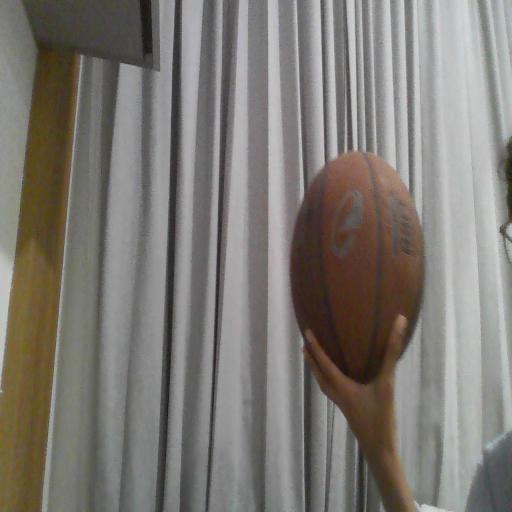basketball: (290, 153, 423, 383)
